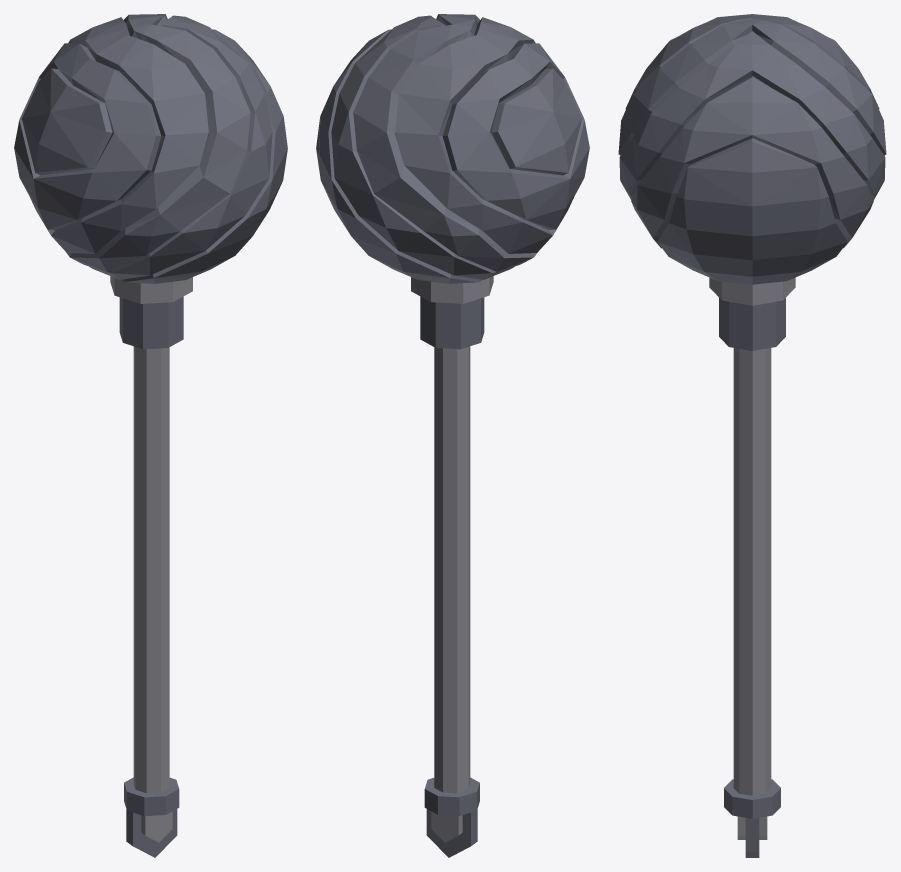
File: hammer_hammer_6.glb
3 views of the same model, side by side, from view 1: azimuth 30°, elevation 25°; view 2: azimuth 150°, elevation 25°; view 3: azimuth 270°, elevation 25° (orthographic).
Parts seen in each view (by area): view 1: hammer_6; view 2: hammer_6; view 3: hammer_6.
Boxes of the visible parts, x1,y1,x2,y2 form: hammer_6: [14, 14, 287, 857]; hammer_6: [316, 14, 589, 857]; hammer_6: [618, 14, 886, 857].
Bounding box in the file's own units: 24.39 × 82.37 × 24.02.
Materials: 1 (1 with a texture image).
